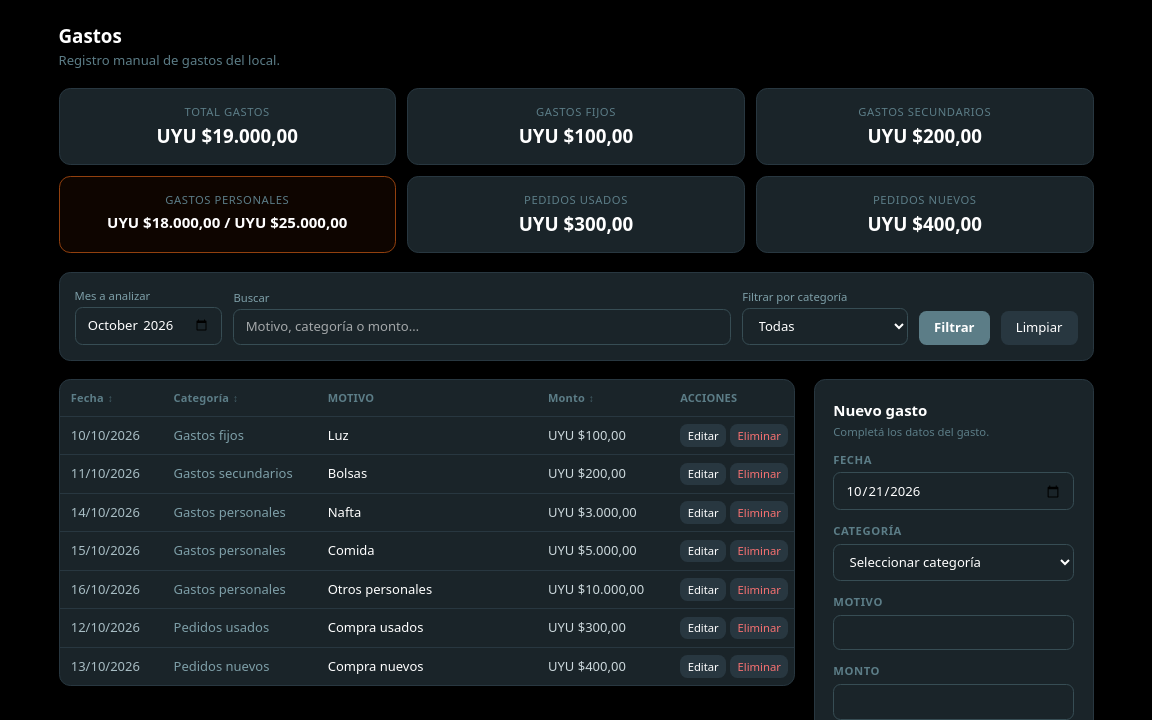
Test case: GastosTienda › recalcula personales por mes y conserva la tarjeta al buscar o filtrar la tabla
Expected: the text "Nafta" is shown, [328,503,361,521]
Expected: the text "UYU $18.000,00 / UYU $25.000,00" is shown, [107,212,347,232]
Type "Nafta" into the field labelled "Buscar" at (482, 327), box [233,309,731,345]
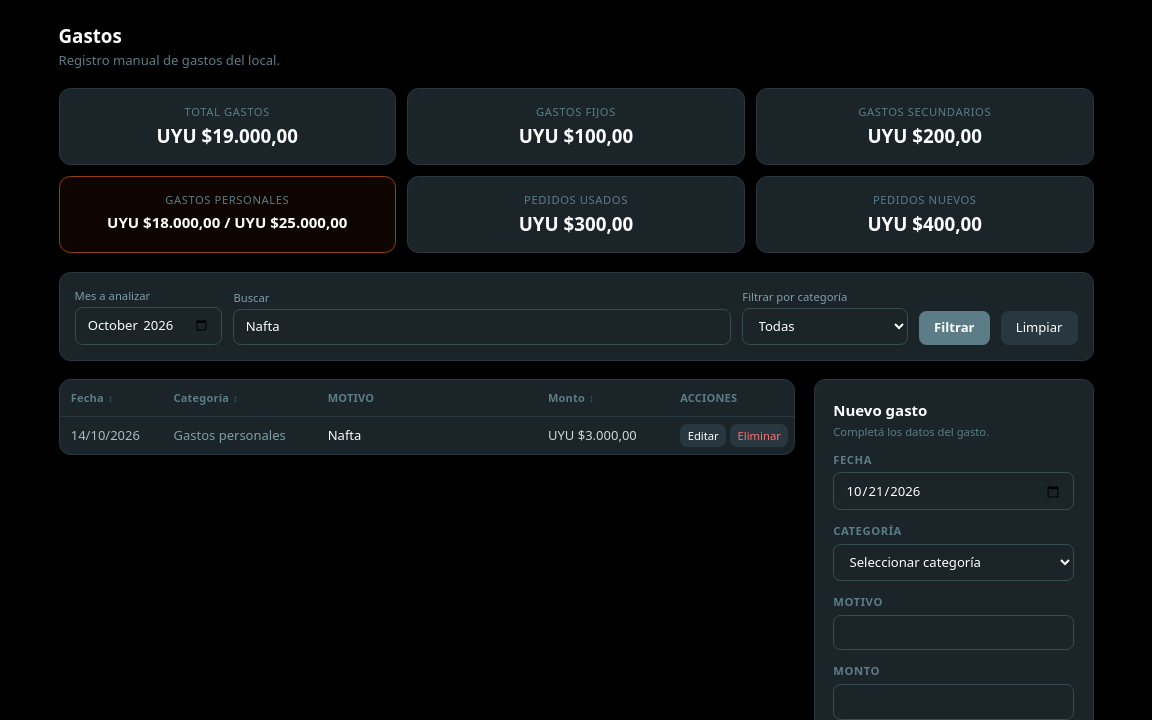
Expected: the text "Nafta" is shown, [328,426,361,444]
Expected: the text "UYU $18.000,00 / UYU $25.000,00" is shown, [107,212,347,232]
Select "Gastos personales" in the dropdown labelled "Filtrar por categoría" at (825, 326), box [742,308,908,345]
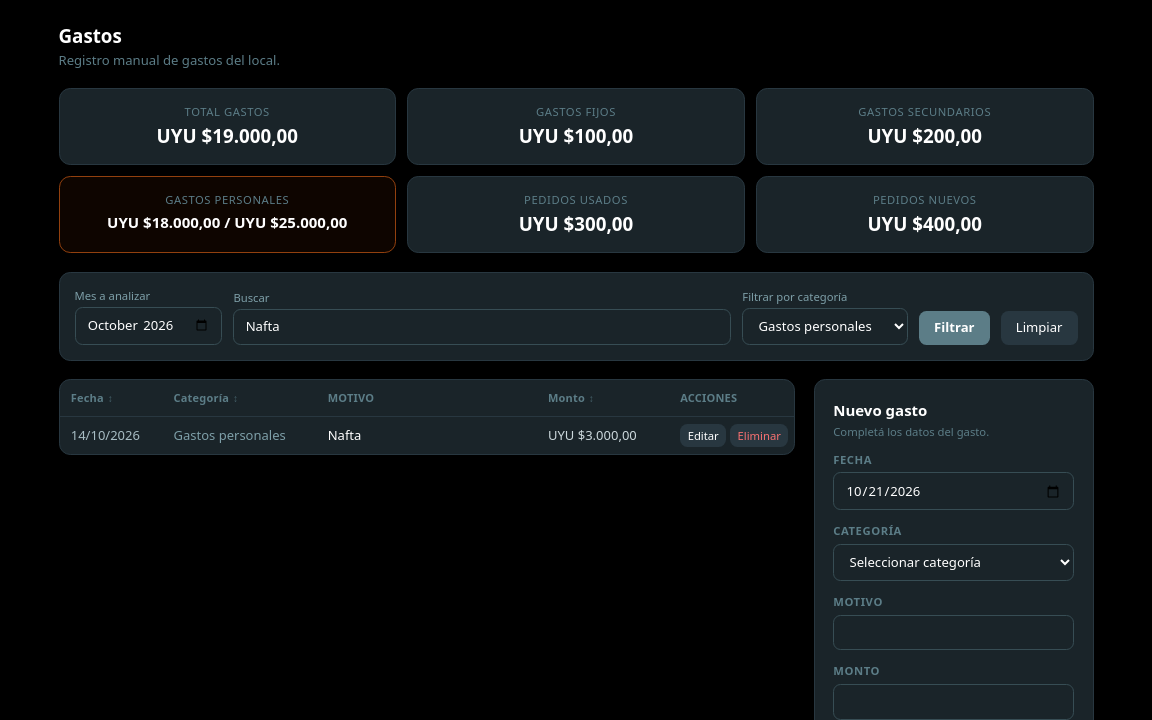
Expected: the text "Nafta" is shown, [328,426,361,444]
Expected: the text "Bolsas" is not shown
Clear the field labelled "Buscar" at (482, 327), box [233,309,731,345]
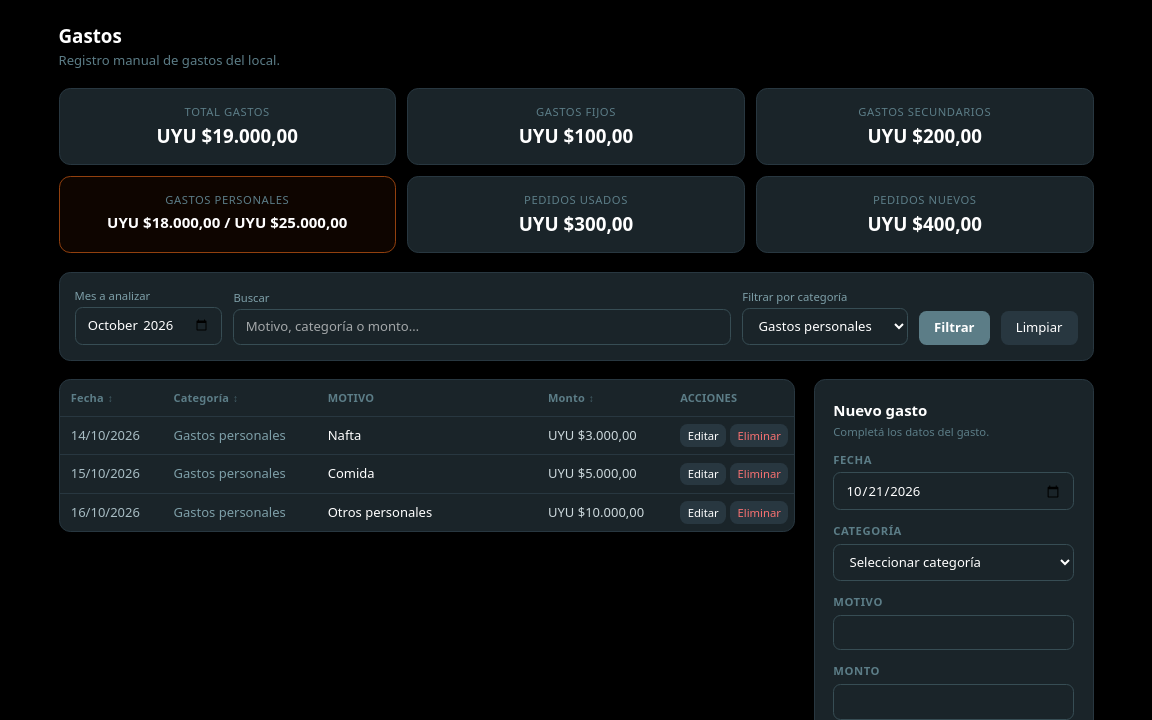
Replace the text in the field labelled "Mes a analizar" with "2026-09" at (148, 326), box [74,307,222,345]
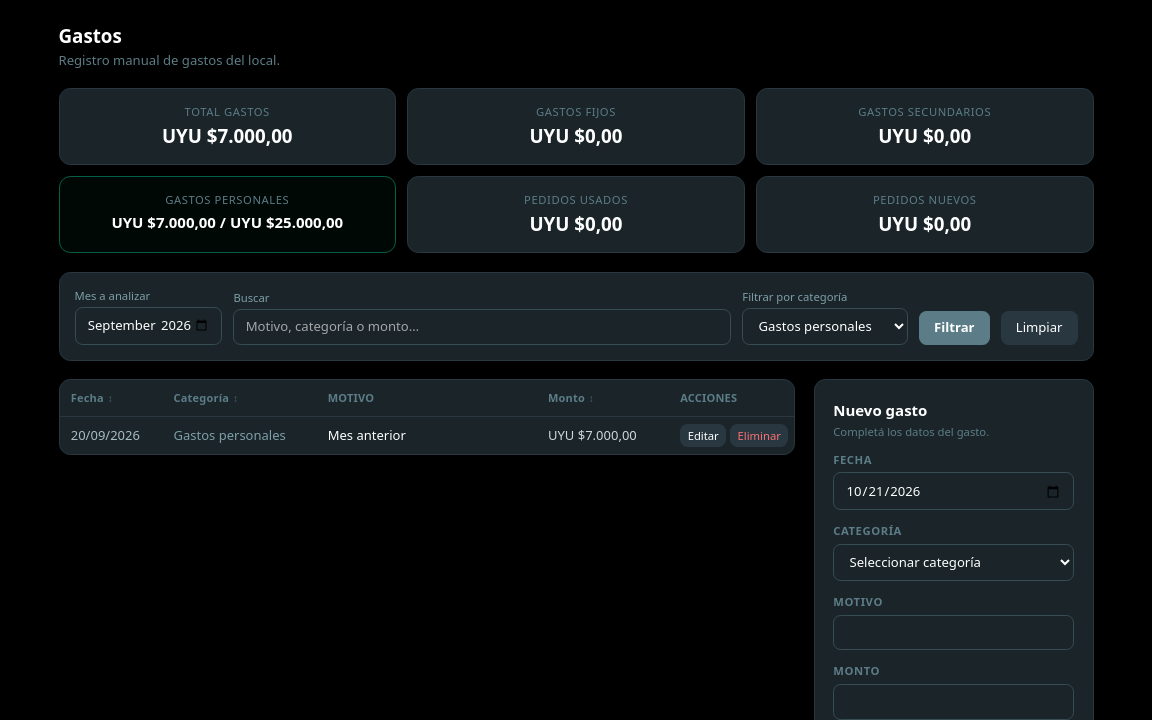
Expected: the text "Mes anterior" is shown, [328,426,406,444]
Expected: the text "UYU $7.000,00 / UYU $25.000,00" is shown, [111,212,343,232]
